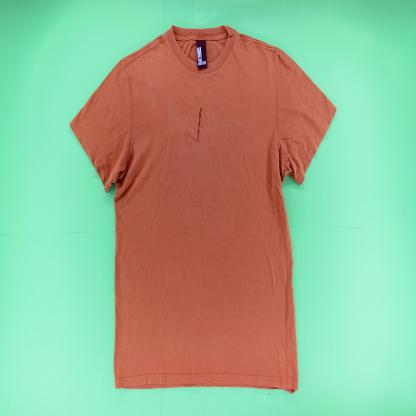hole: (196, 106, 203, 143)
